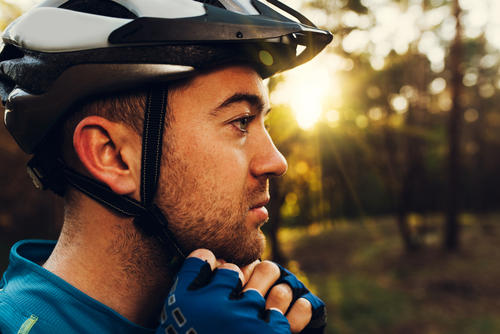helmet: (1, 1, 332, 264)
